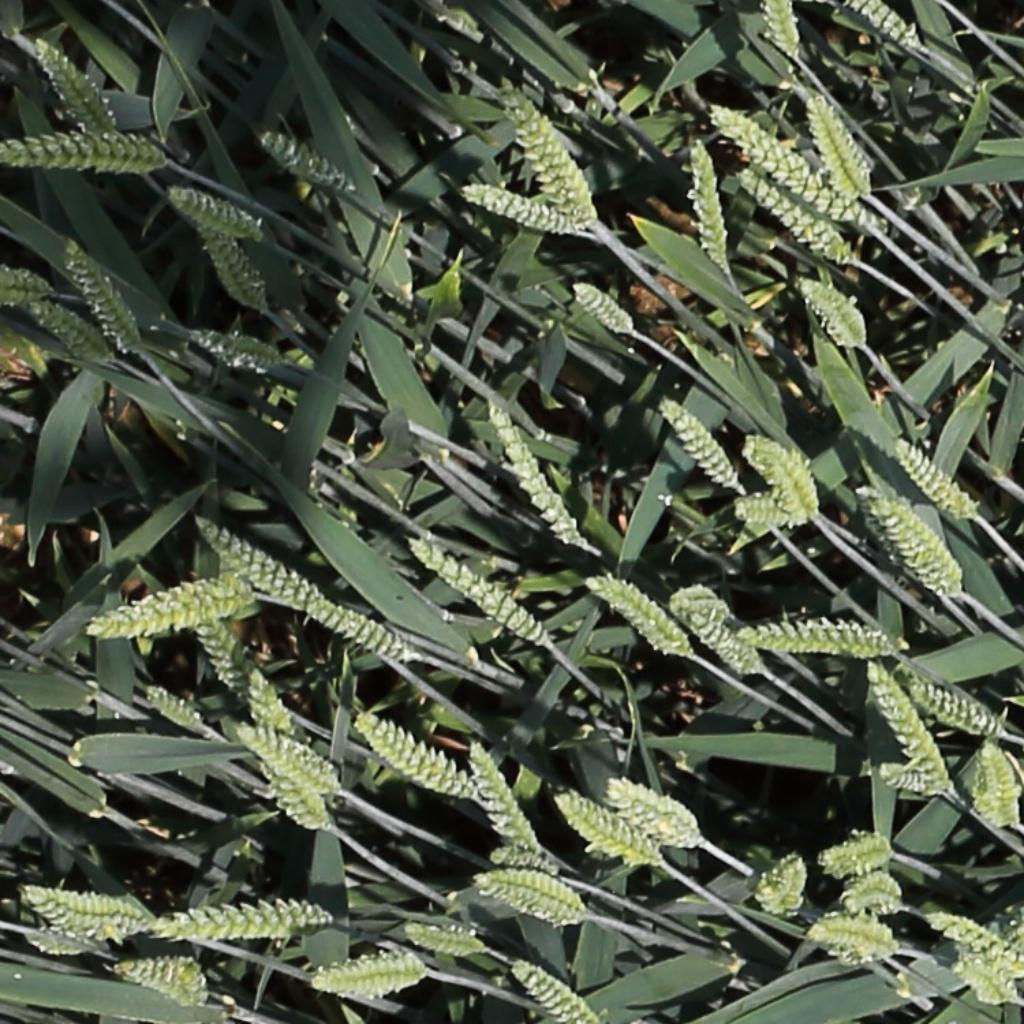0-0: (706, 101, 870, 225), (406, 535, 548, 645), (486, 400, 587, 550), (495, 76, 592, 228), (862, 655, 956, 795), (193, 511, 324, 611), (734, 169, 863, 269), (85, 572, 265, 643), (353, 712, 484, 801), (858, 490, 962, 599), (62, 236, 150, 356), (580, 572, 696, 659), (467, 732, 548, 854), (555, 787, 668, 869), (653, 393, 746, 492), (299, 588, 417, 664), (232, 717, 344, 796), (802, 85, 879, 199), (603, 770, 706, 854), (145, 897, 335, 941), (33, 34, 118, 132), (474, 864, 599, 930), (20, 883, 159, 941), (0, 128, 171, 174), (890, 434, 977, 524), (734, 618, 913, 660), (742, 430, 820, 520), (307, 948, 428, 1005), (195, 222, 269, 315), (105, 950, 211, 1013), (685, 135, 733, 274), (507, 958, 607, 1024), (461, 182, 580, 237), (166, 178, 267, 242), (906, 680, 1010, 741), (258, 127, 353, 192), (257, 756, 337, 831), (794, 274, 871, 351), (24, 300, 117, 363), (189, 615, 251, 708), (924, 908, 1024, 962), (689, 612, 769, 675), (187, 327, 292, 373), (241, 663, 301, 739), (805, 909, 909, 952), (842, 1, 922, 55), (817, 827, 899, 879), (568, 279, 640, 338), (752, 847, 808, 919), (838, 869, 906, 921), (488, 843, 570, 886), (140, 683, 211, 732), (953, 961, 1024, 1010), (973, 739, 1021, 808), (399, 919, 488, 955), (763, 0, 805, 67), (728, 492, 804, 529), (28, 926, 113, 959), (668, 582, 734, 624), (877, 762, 950, 799), (1, 264, 57, 304), (972, 789, 1016, 828), (831, 944, 894, 968)
